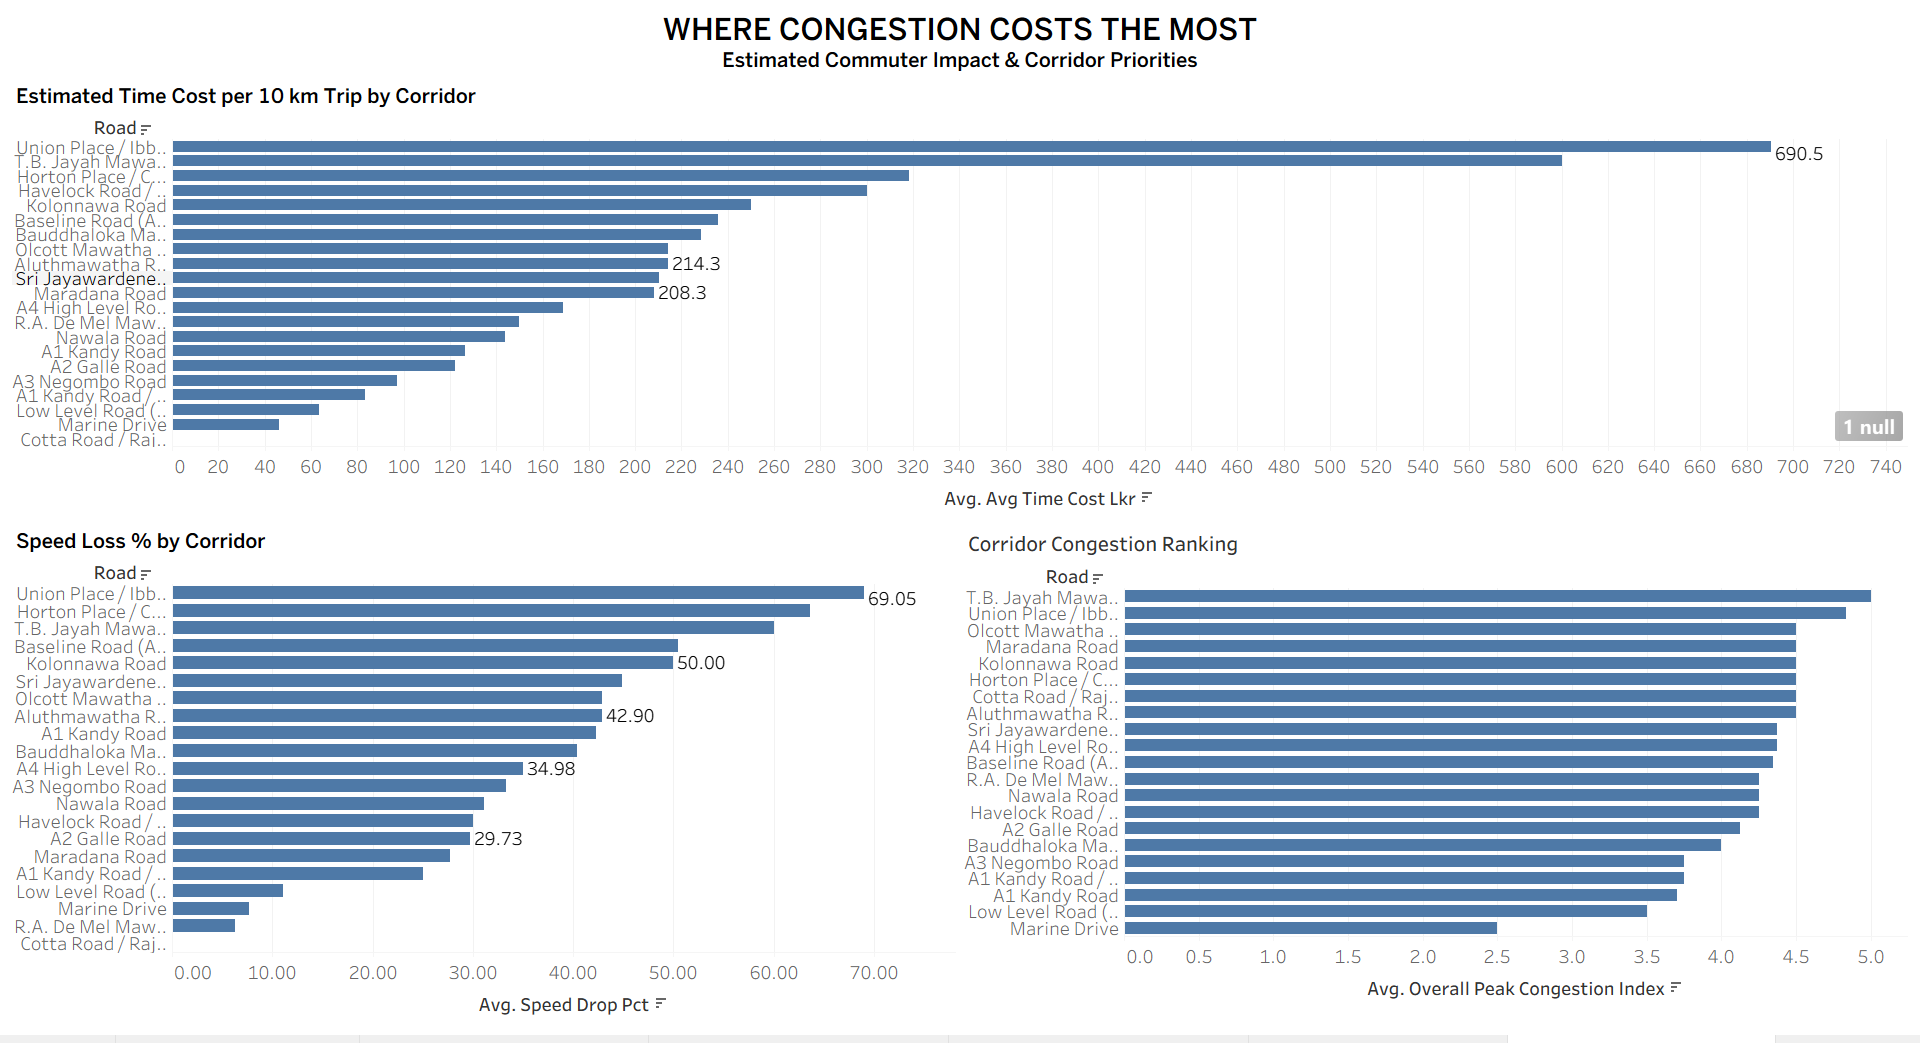

The page's visual inventory and layout, read from the dashboard file:
{"tool":"tableau","page":{"name":"Congestion Cost & Priority","canvas":[1000,1000],"units":"permille","ordinal":2},"visuals":[{"type":"title","box":[5,9.8,990,83.1]},{"type":"worksheet","title":"Estimated Congestion Cost by Corridor","mark":"Automatic","rows":["road"],"cols":["avg_time_cost_lkr"],"box":[5,92.9,990,419.6]},{"type":"worksheet","title":"Speed Loss % by Corridor","mark":"Bar","rows":["road"],"cols":["speed_drop_pct"],"box":[5,512.5,495,477.7]},{"type":"worksheet","title":"Corridor Congestion Ranking","mark":"Automatic","rows":["road"],"cols":["overall_peak_congestion_index"],"box":[500,512.5,495,477.7]}]}

Visuals, with their boxes on the dashboard's canvas, which has no fixed pixel size, in thousandths of its width and height (x1, y1, x2, y2). These are canvas units, not pixel positions in the 1920x1043 screenshot, which may show the page scaled, cropped or inside an application window:
title: {"left": 5, "top": 10, "right": 995, "bottom": 93}
"Estimated Congestion Cost by Corridor" worksheet: {"left": 5, "top": 93, "right": 995, "bottom": 512}
"Speed Loss % by Corridor" worksheet (Bar marks): {"left": 5, "top": 512, "right": 500, "bottom": 990}
"Corridor Congestion Ranking" worksheet: {"left": 500, "top": 512, "right": 995, "bottom": 990}
